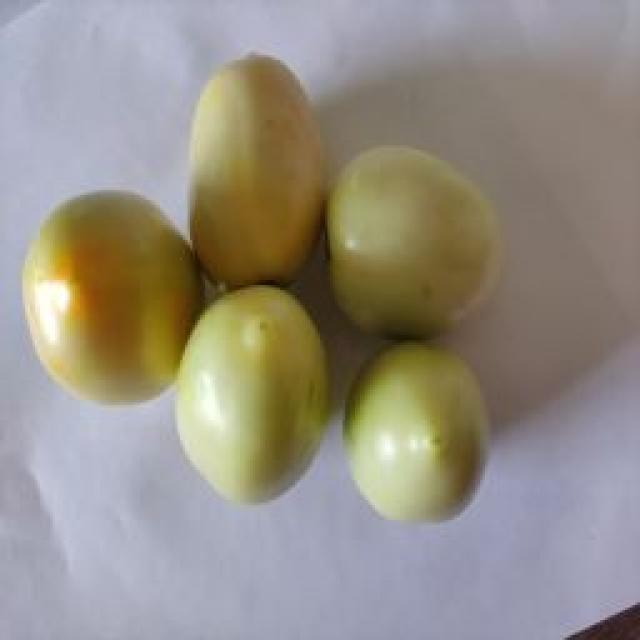tomato: (16, 188, 207, 409), (322, 142, 507, 340), (173, 283, 333, 506), (184, 52, 326, 290), (343, 341, 493, 528)
